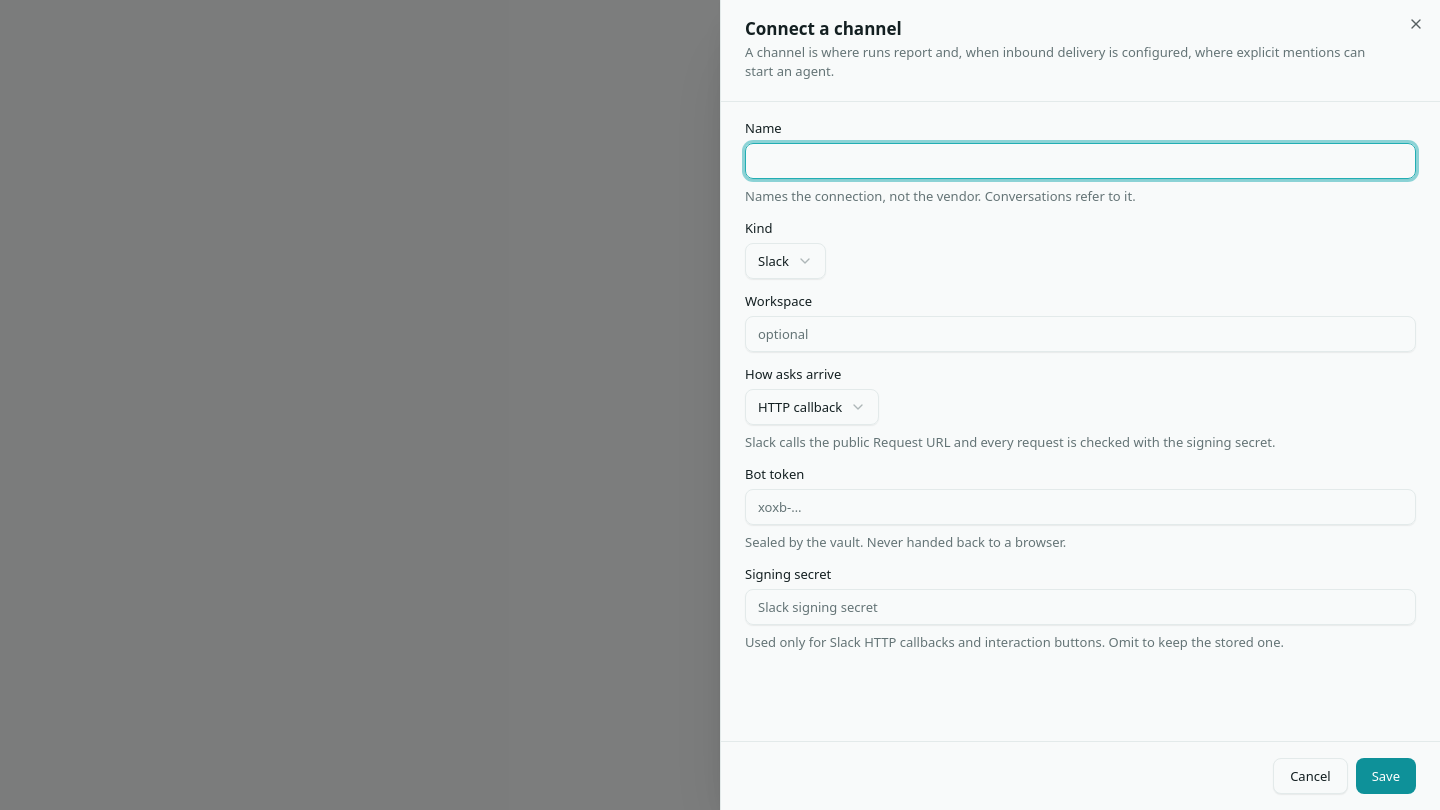
channel connection form › asks for the Socket Mode app token only when socket delivery is selected
Expected: the password field labelled "Signing secret" is shown, [745,589,1416,625]
Expected: the field labelled "Socket Mode app token" is not shown
What coordinates should you click on to do the following:
click the dropdown named "How asks arrive"
I would click on:
 (812, 407)
Its box is [745,389,879,425].
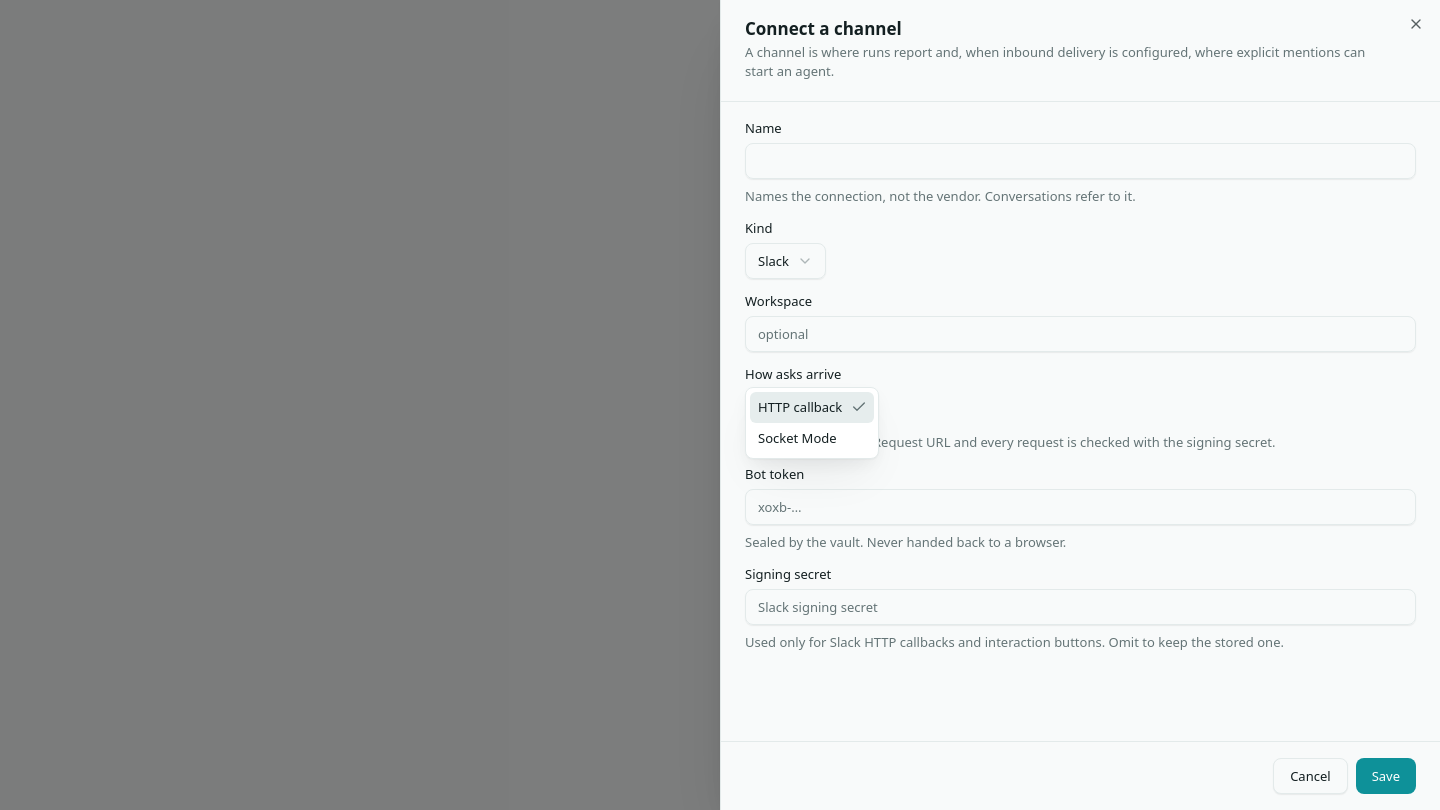
What coordinates should you click on to do the following:
click the option "Socket Mode"
I would click on:
 (797, 438)
Its box is [758,428,837,446].
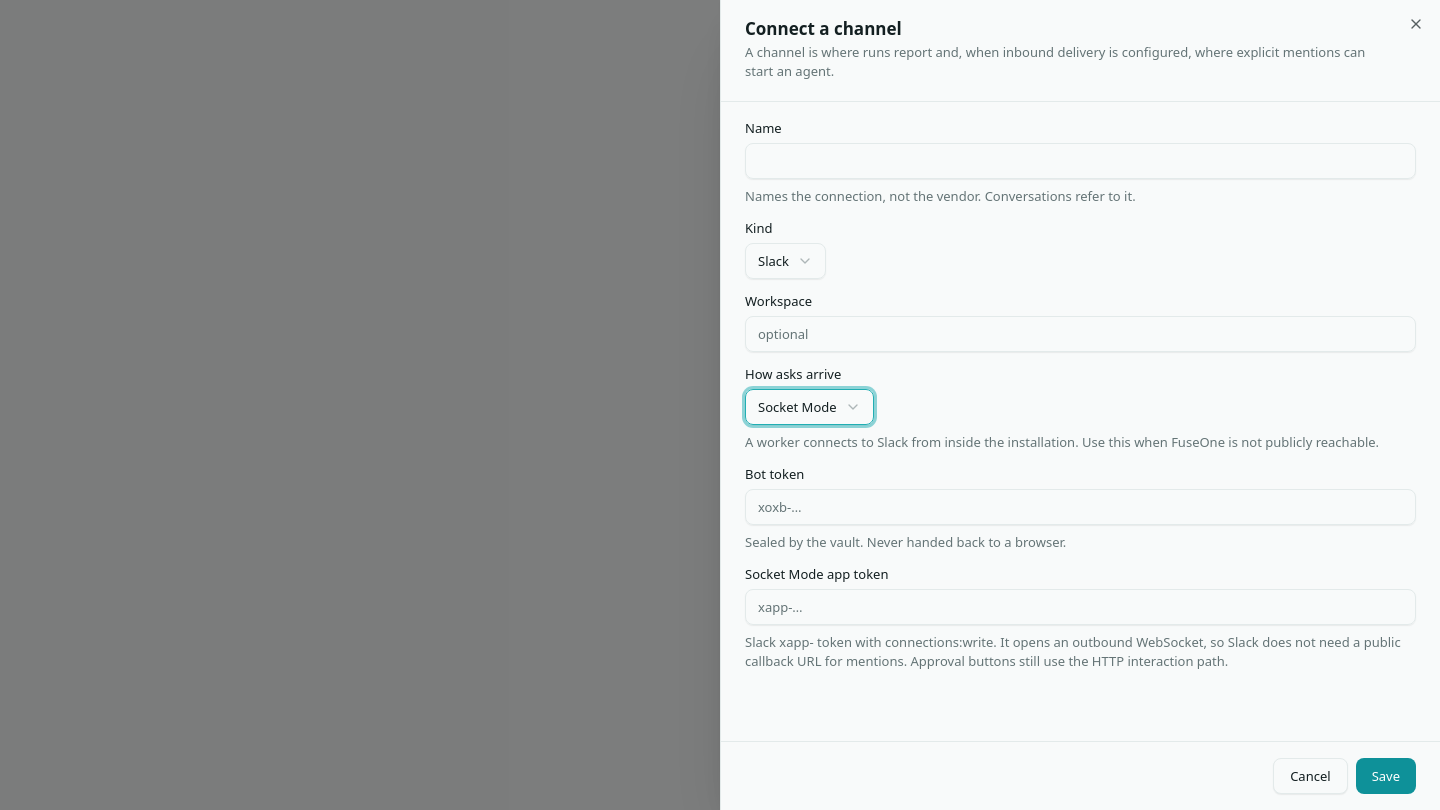
Now the password field labelled "Socket Mode app token" is shown, box [745,589,1416,625]
Now the text labelled "Signing secret" is gone
